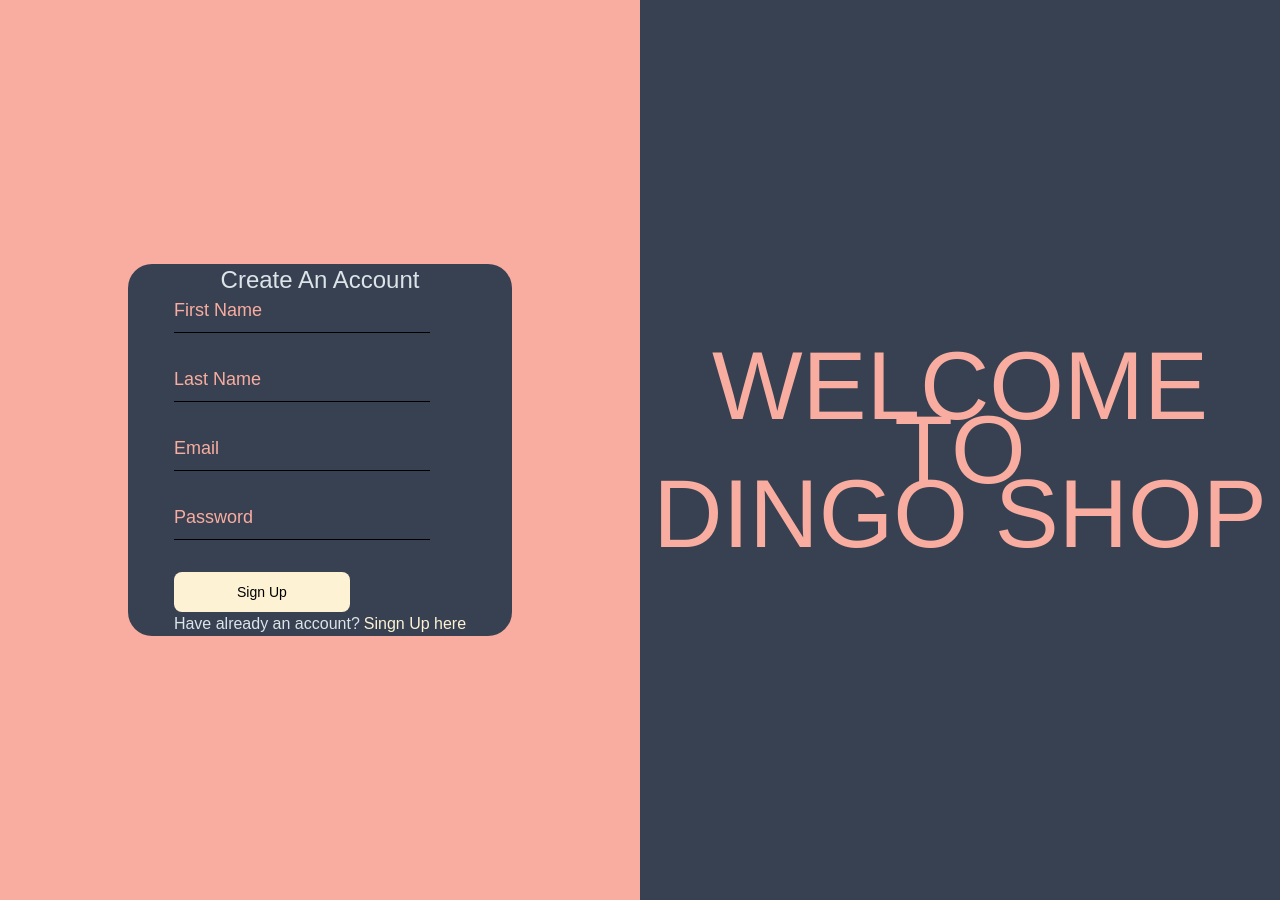
Test case: testing functionality of sign up › short password error message
Type "123" into the password field with test id "password-input".
click(302, 524); type("123")  # box [174,507,430,540]
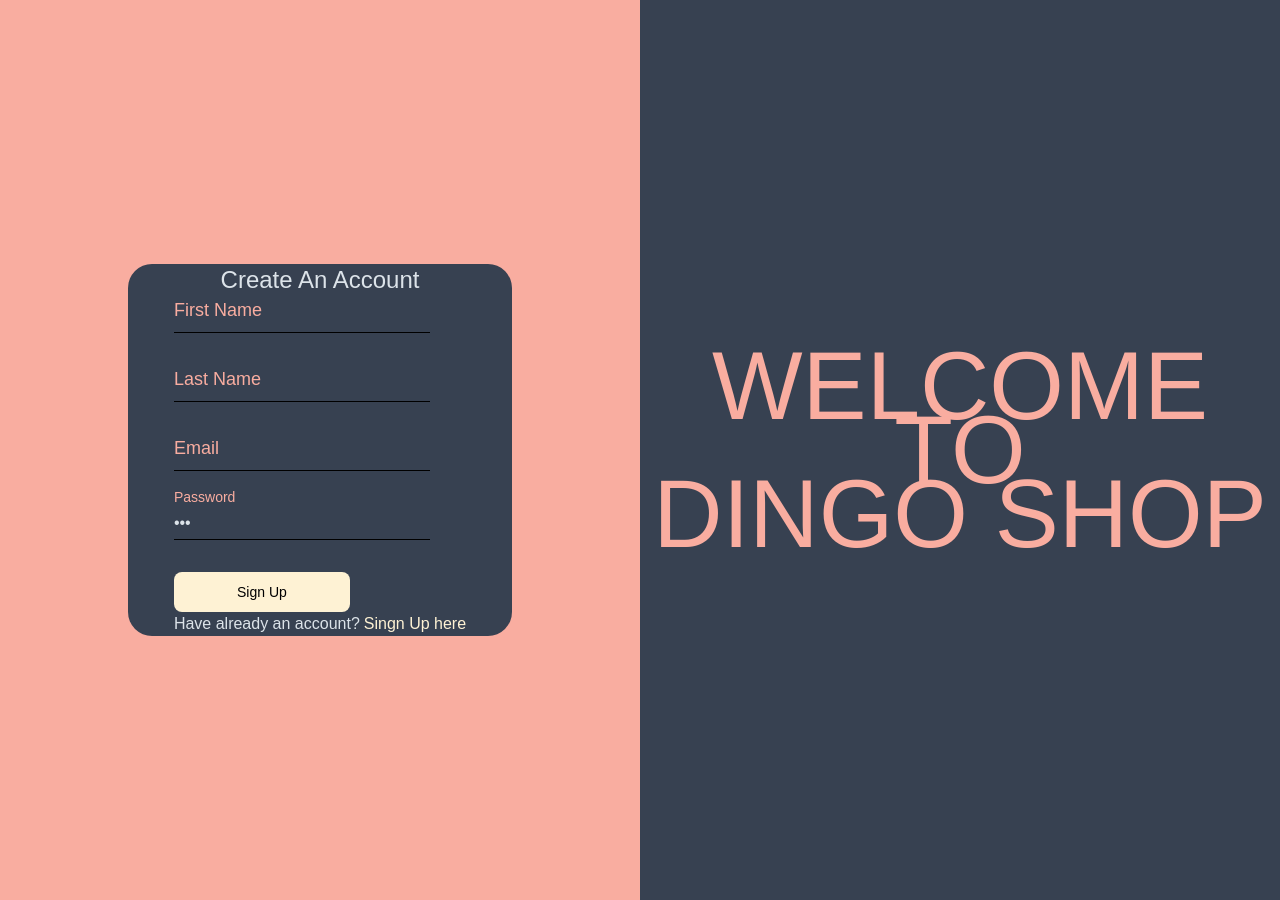
Click the button with test id "submit-button".
click(262, 592)  # box [174,572,350,612]
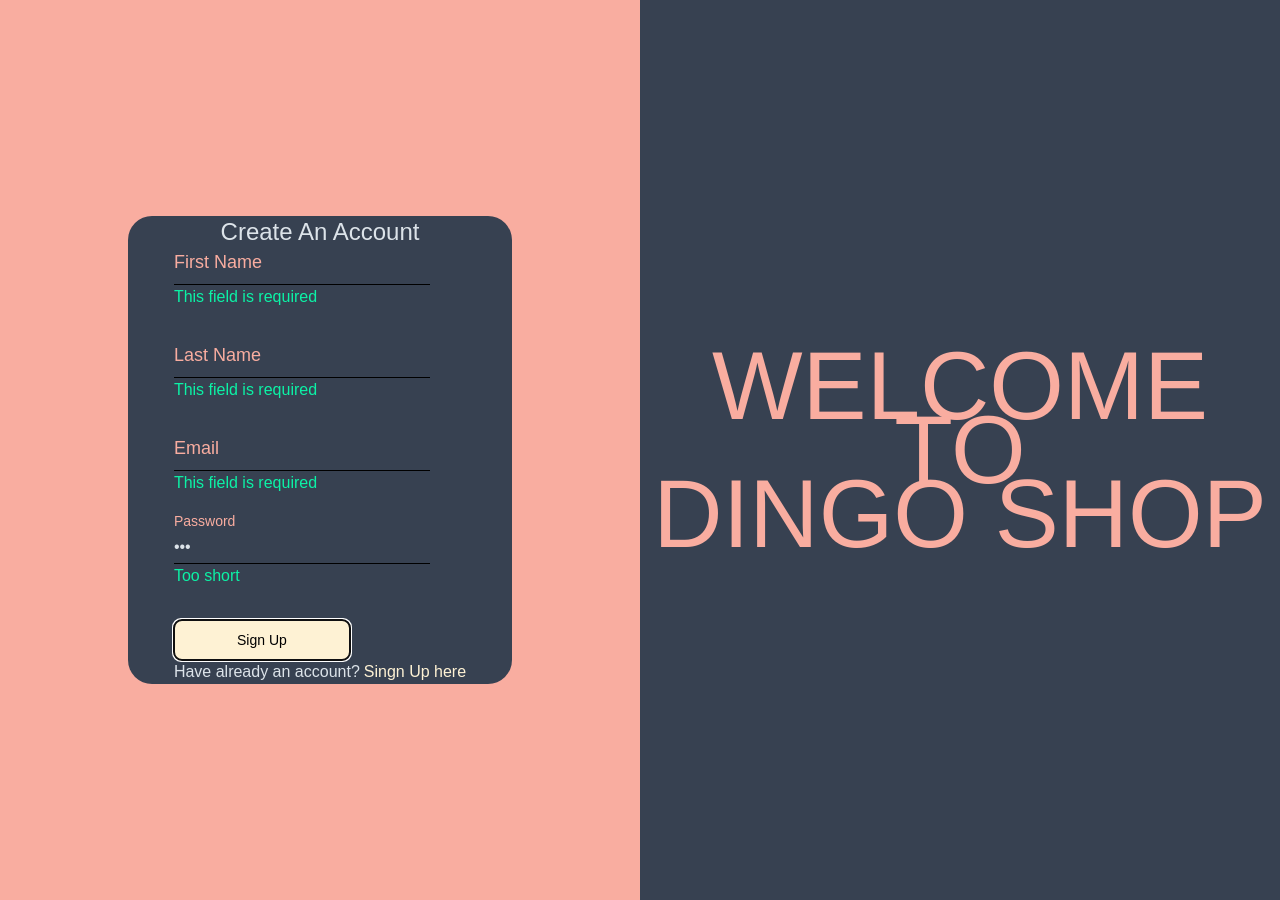
Now the text "Too short" is shown, box [174,567,240,584]
